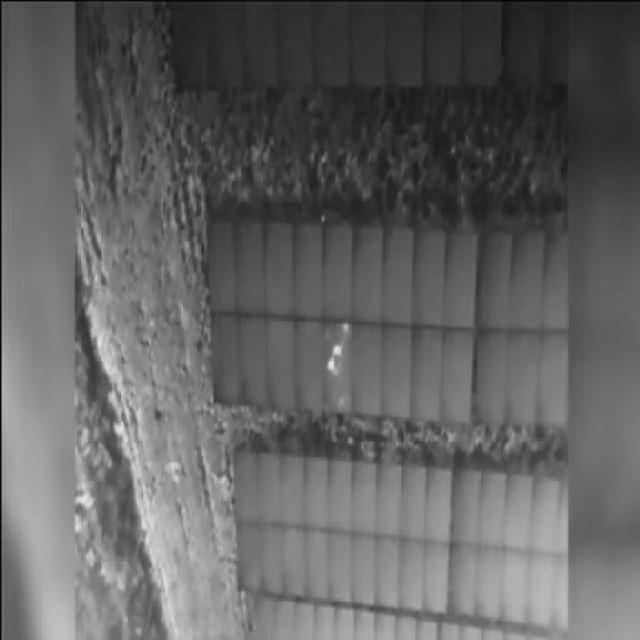hotspot: (324, 356, 334, 372), (329, 343, 340, 354), (339, 318, 348, 331)
